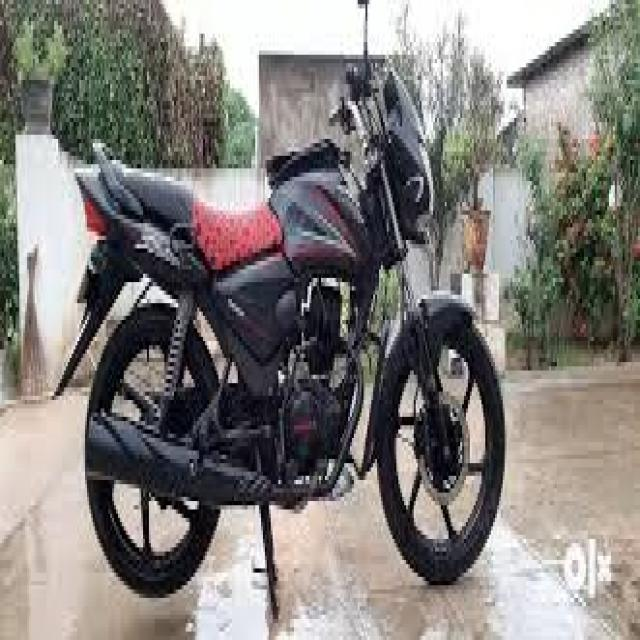bike: (45, 76, 518, 615)
